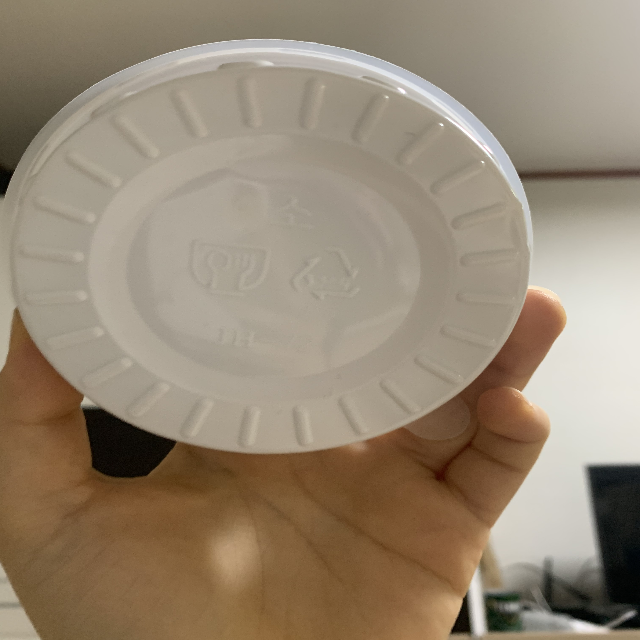ps: (290, 244, 367, 318)
